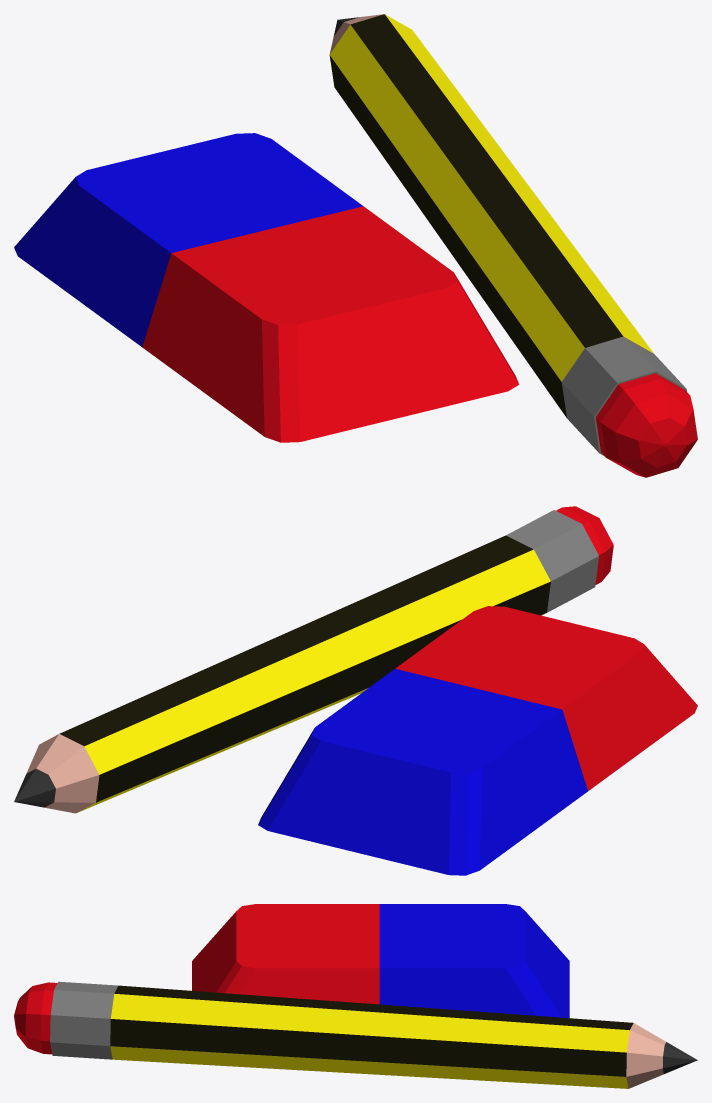
File: Lapiz y goma (2).fbx
3 renders of one model, top to bottom at view 1: azimuth 30°, elevation 25°; view 2: azimuth 150°, elevation 25°; view 3: azimuth 270°, elevation 25°, orthographic. The views are drawn at different scales.
Visible parts, largest first — view 1: Cube, Lapiz; view 2: Cube, Lapiz; view 3: Lapiz, Cube.
Boxes of the visible parts, <box> form: Cube: <box>14,133,518,442</box>; Lapiz: <box>329,14,697,477</box>; Cube: <box>258,606,697,875</box>; Lapiz: <box>14,506,613,813</box>; Lapiz: <box>14,981,697,1088</box>; Cube: <box>192,904,569,1018</box>.
Size of the model in its own units: 230 by 52.8 by 437.
